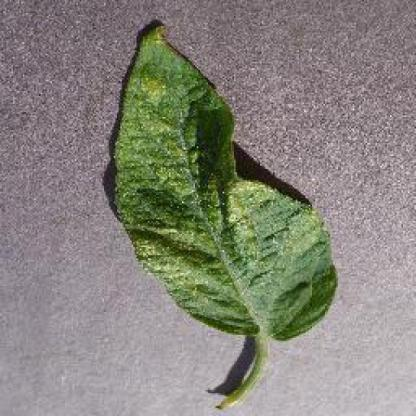Tomato_Spider_Mites: (114, 25, 337, 341)
